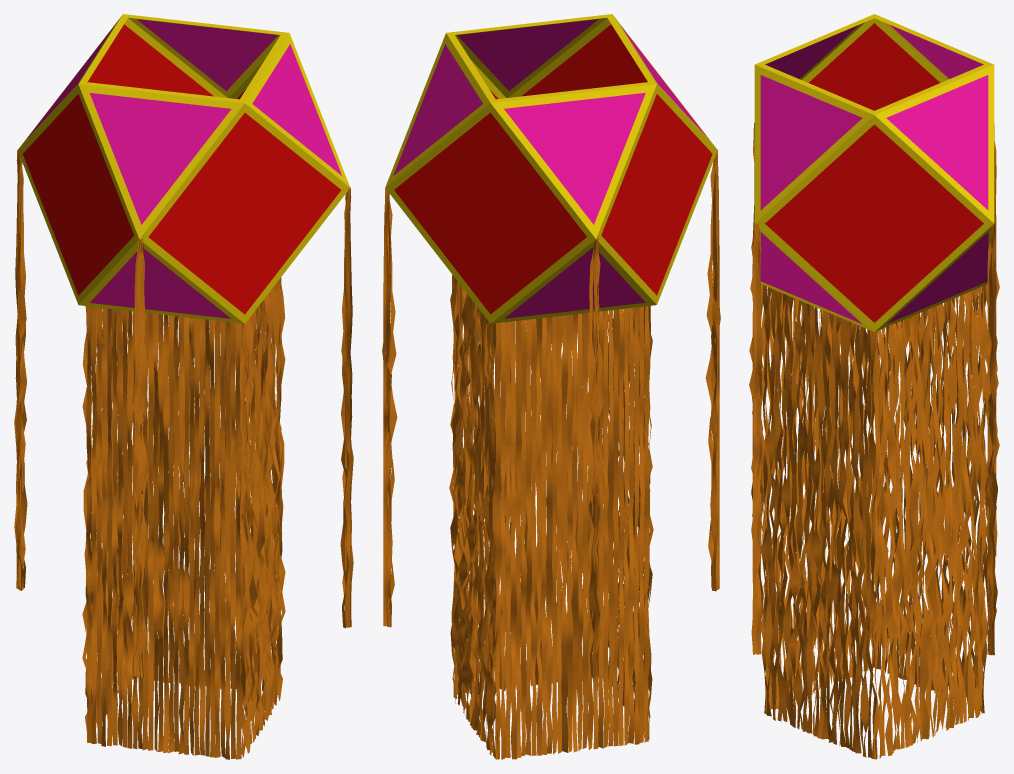
File: wesak.glb
3 views of the same model, side by side, from view 1: azimuth 30°, elevation 25°; view 2: azimuth 150°, elevation 25°; view 3: azimuth 270°, elevation 25° (orthographic).
Parts seen in each view (by area): view 1: Plane, Cube, Plane.001, Plane.004, Plane.002; view 2: Plane, Cube, Plane.002, Plane.001, Plane.003; view 3: Plane, Cube, Plane.004, Plane.003, Plane.002, Plane.001.
Boxes of the visible parts, x1,y1,x2,y2 form: Plane: [82, 277, 285, 759]; Cube: [17, 14, 350, 323]; Plane.001: [132, 236, 148, 678]; Plane.004: [340, 187, 353, 628]; Plane.002: [14, 150, 27, 590]; Plane: [449, 275, 653, 759]; Cube: [385, 14, 717, 323]; Plane.002: [585, 237, 604, 677]; Plane.001: [705, 150, 720, 591]; Plane.003: [382, 188, 397, 627]; Plane: [761, 285, 987, 759]; Cube: [754, 14, 994, 331]; Plane.004: [749, 222, 765, 654]; Plane.003: [983, 222, 999, 655]; Plane.002: [985, 124, 999, 556]; Plane.001: [749, 122, 762, 553].
Bounding box in the file's own units: 2.1 × 5.98 × 2.1.
